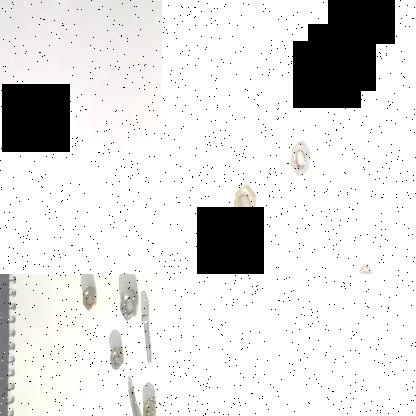Bolts: (138, 307, 152, 365), (124, 383, 144, 416)
NUTS: (223, 176, 259, 236), (285, 135, 313, 185), (117, 286, 137, 320), (78, 282, 98, 308), (108, 342, 124, 372), (140, 393, 156, 416), (353, 259, 377, 274)
